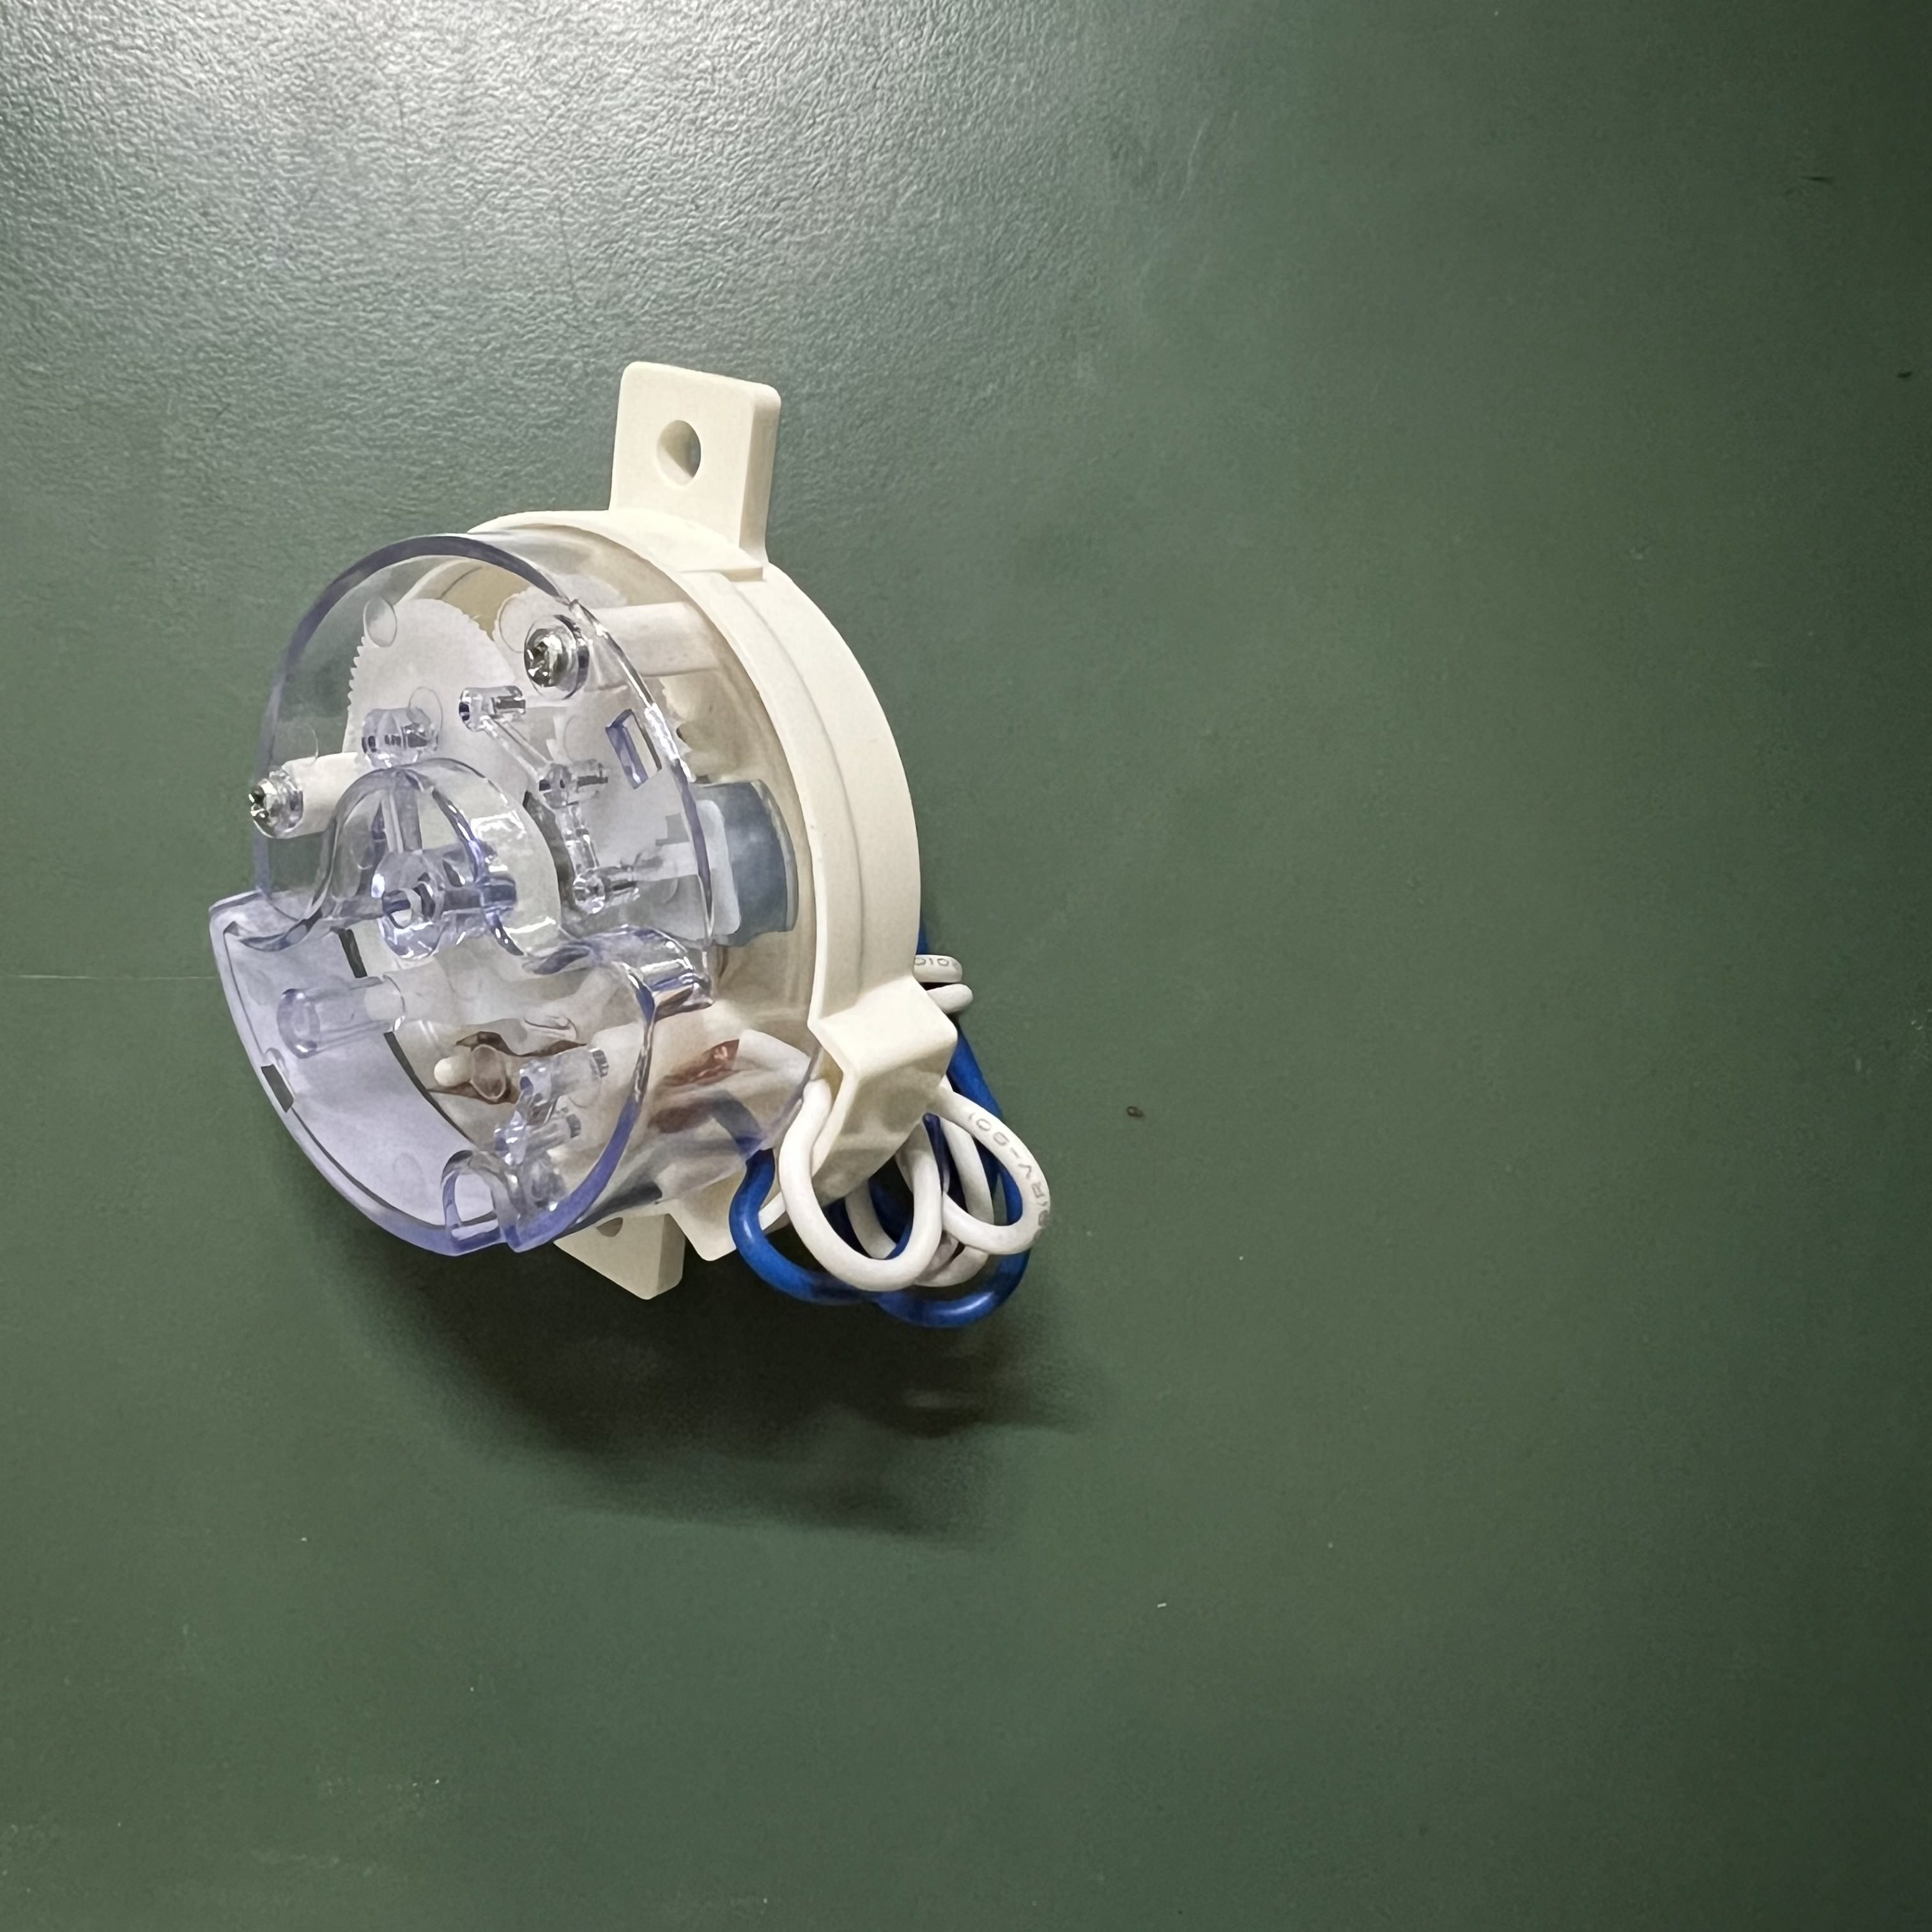circle_timer: (203, 333, 1122, 1327)
